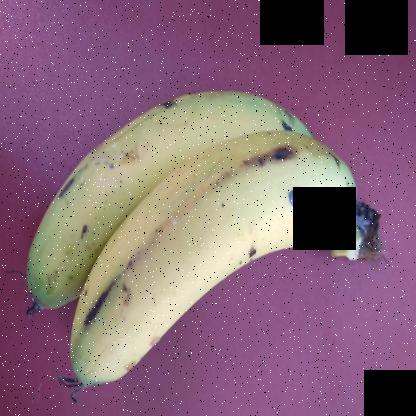ripe: (76, 132, 369, 394), (16, 67, 262, 324)
